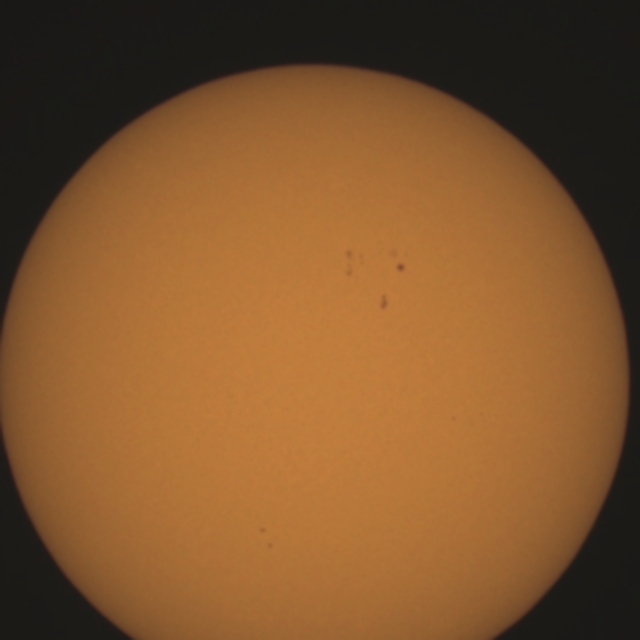sunspot: (341, 247, 366, 279), (258, 526, 275, 550), (378, 292, 391, 312), (394, 261, 407, 274), (478, 411, 488, 423), (258, 526, 267, 535), (266, 540, 274, 550), (450, 414, 458, 423)
